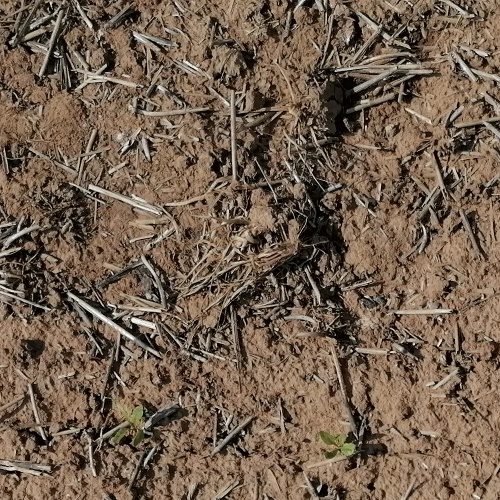beet: (111, 405, 143, 444), (321, 432, 356, 459)
